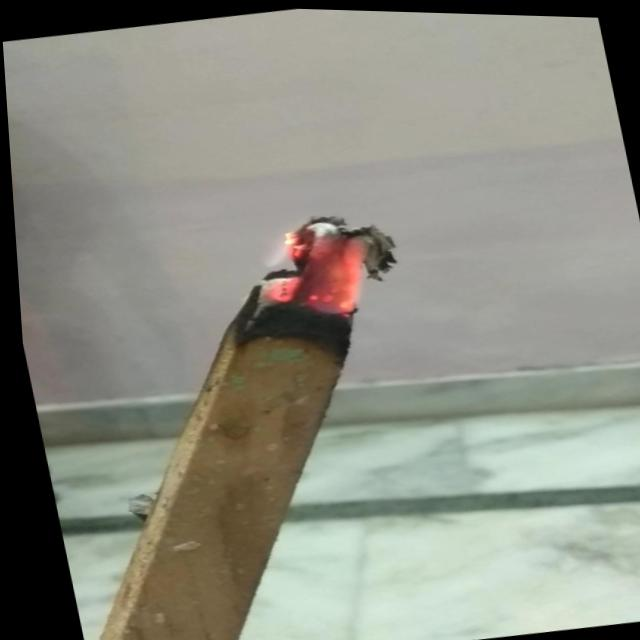fire: (244, 213, 375, 322)
